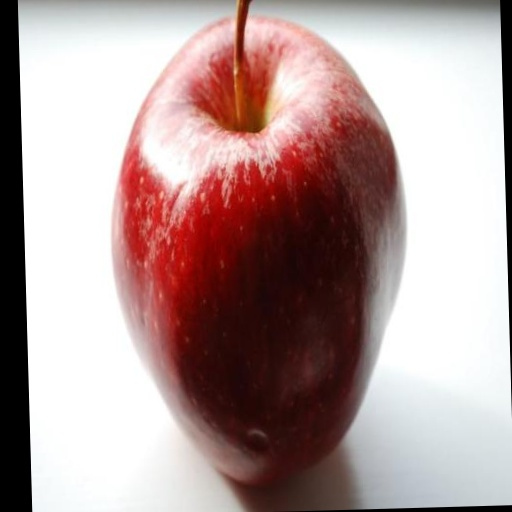fruit: (113, 19, 405, 484)
